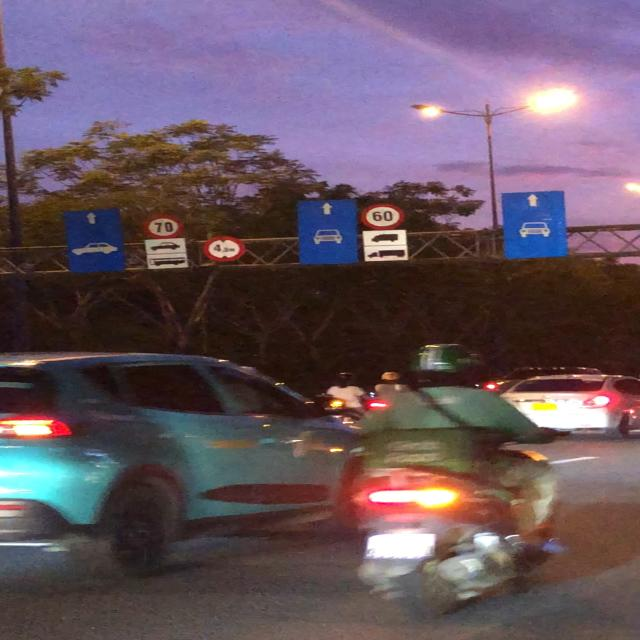Bien bao han che chieu cao: (200, 232, 247, 262)
Bien bao toc do toi da cho phep: (356, 201, 408, 232), (141, 214, 183, 240)
